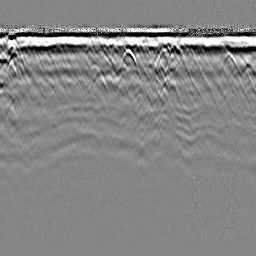cavity: (120, 46, 137, 70)
